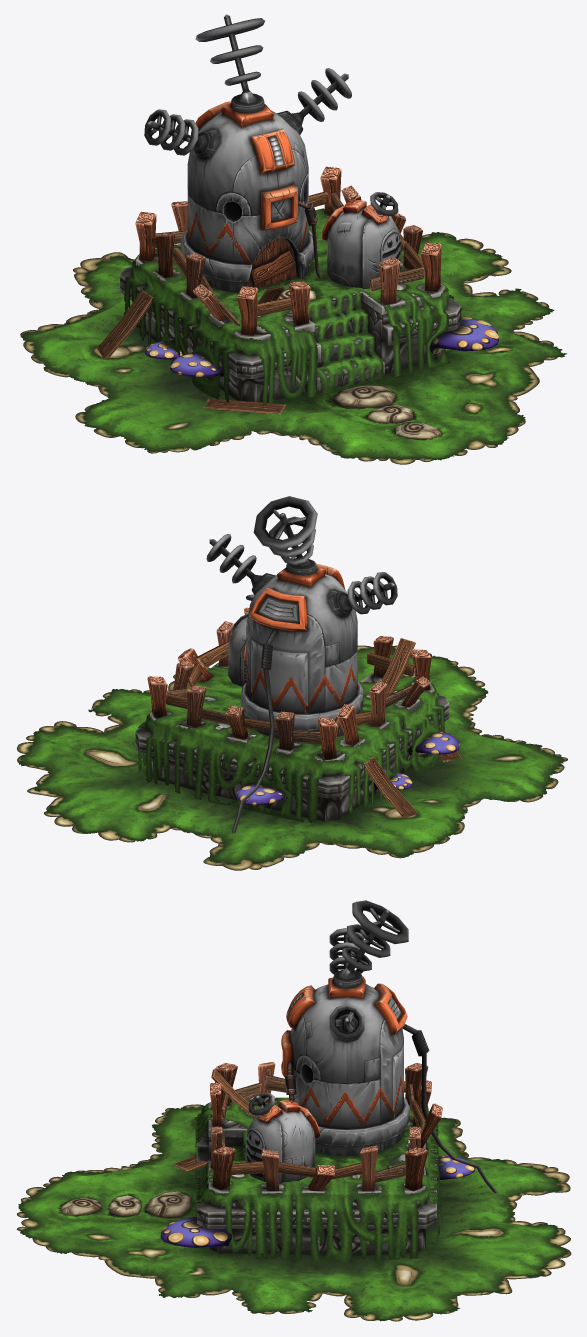
The model's file is maison_other.fbx.
3 views of the same model, one above another, from view 1: azimuth 30°, elevation 25°; view 2: azimuth 150°, elevation 25°; view 3: azimuth 270°, elevation 25° (orthographic). The views are drawn at different scales.
Visible parts, largest first — view 1: green, maisonbig, socle, barrier, maisonsmall, champ, planche; view 2: green, maisonbig, barrier, socle, planche, champ, maisonsmall; view 3: green, maisonbig, socle, barrier, maisonsmall, champ, planche.
Boxes of the visible parts, x1,y1,x2,y2 form: green: [20, 208, 566, 464]; maisonbig: [144, 14, 351, 292]; socle: [120, 208, 461, 438]; barrier: [135, 166, 441, 335]; maisonsmall: [321, 192, 400, 289]; champ: [144, 317, 498, 377]; planche: [97, 285, 285, 414]; green: [17, 645, 567, 870]; maisonbig: [206, 496, 397, 833]; barrier: [147, 607, 431, 759]; socle: [135, 663, 449, 820]; planche: [362, 638, 461, 817]; champ: [236, 731, 459, 805]; maisonsmall: [228, 594, 254, 686]; green: [17, 1097, 571, 1321]; maisonbig: [281, 900, 497, 1192]; socle: [60, 1098, 436, 1255]; barrier: [210, 1061, 442, 1191]; maisonsmall: [246, 1092, 320, 1183]; champ: [160, 1156, 475, 1247]; planche: [173, 1069, 257, 1171].
Bounding box in the file's own units: 323 × 194 × 337.
